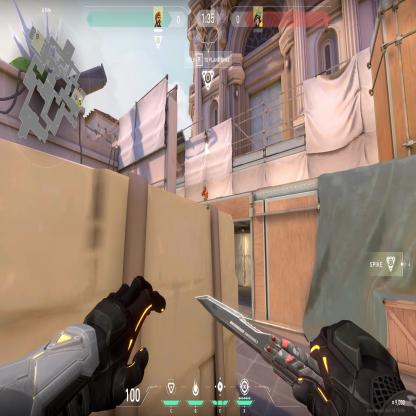enemy: (201, 184, 208, 200)
